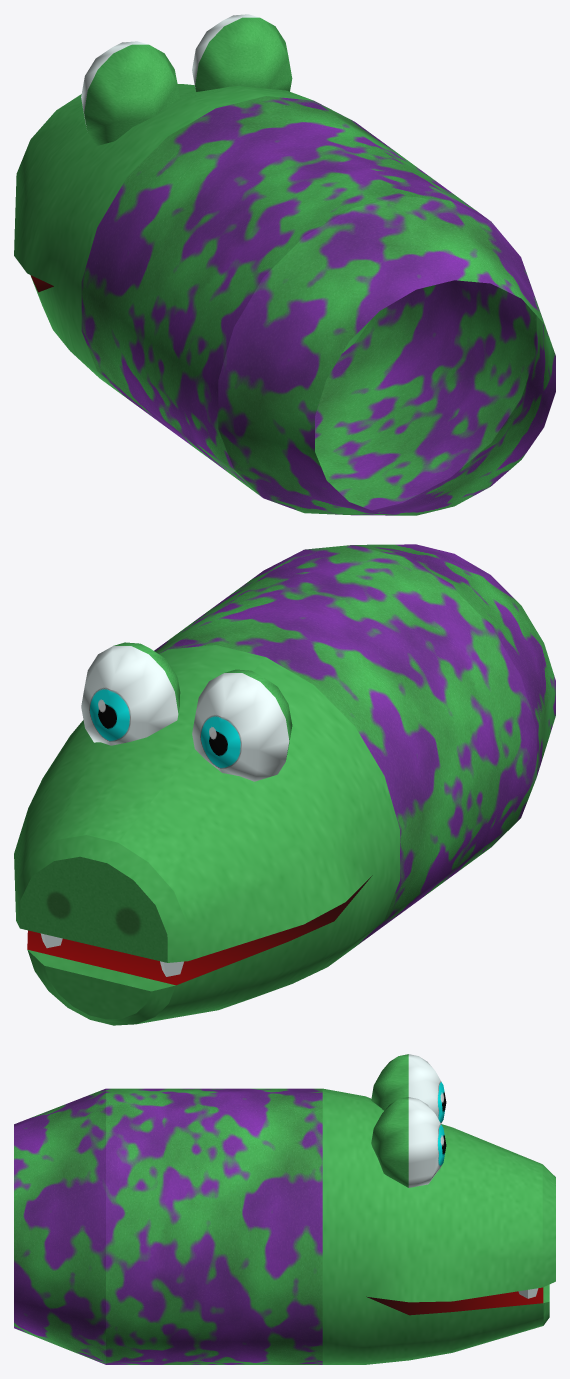
The model's file is bodyHead.fbx.
3 renders of one model, top to bottom at view 1: azimuth 30°, elevation 25°; view 2: azimuth 150°, elevation 25°; view 3: azimuth 270°, elevation 25°, orthographic. The views are drawn at different scales.
Visible parts, largest first — view 1: bodyHead; view 2: bodyHead; view 3: bodyHead.
Part boxes in pixels (x1,y1,x2,y2): bodyHead: (14,14,555,515); bodyHead: (14,544,555,1025); bodyHead: (14,1054,555,1364).
Size of the model in its own units: 1.28 by 1.3 by 2.38.
Materials: 2 (2 with a texture image).
